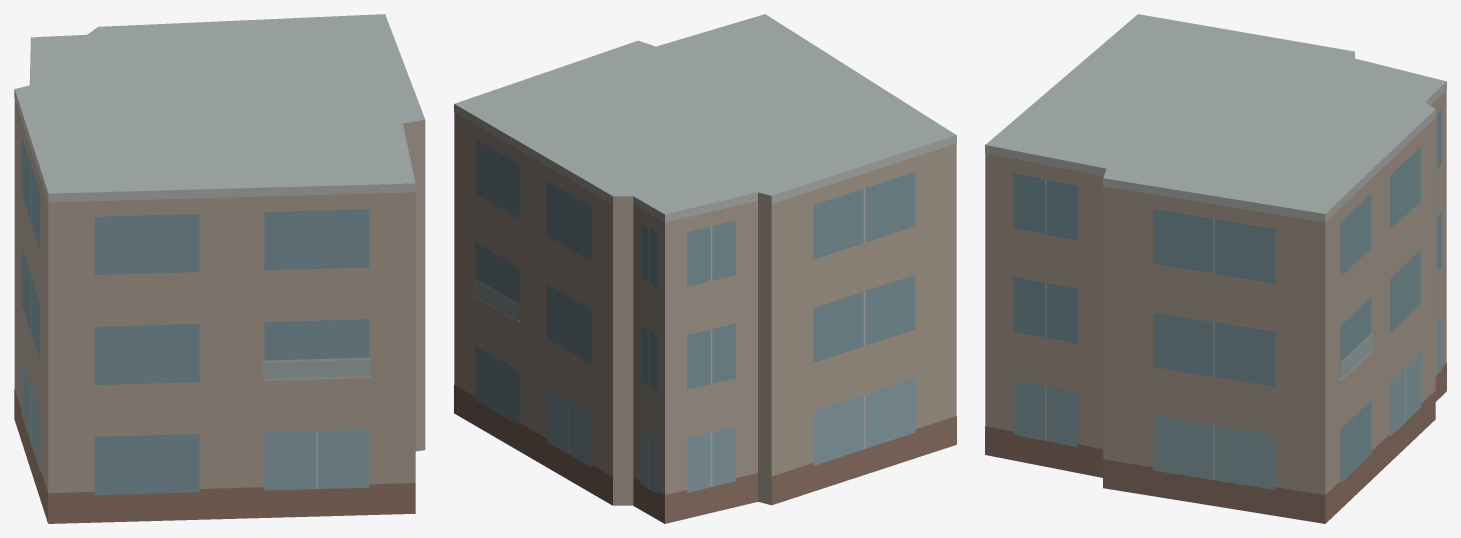
Rendered from survey-upis-32657446.glb.
The picture shows the model from 3 angles, left to right: view 1: azimuth 30°, elevation 25°; view 2: azimuth 150°, elevation 25°; view 3: azimuth 270°, elevation 25°; orthographic projection. The views are drawn at different scales.
Parts seen in each view (by area): view 1: survey-upis-32657446.tmp; view 2: survey-upis-32657446.tmp; view 3: survey-upis-32657446.tmp.
Boxes of the visible parts, x1=… form: survey-upis-32657446.tmp: x1=14, y1=14, x2=425, y2=523; survey-upis-32657446.tmp: x1=454, y1=14, x2=956, y2=523; survey-upis-32657446.tmp: x1=985, y1=14, x2=1446, y2=523.
Size of the model in its own units: 12.6 by 9.1 by 12.29.
